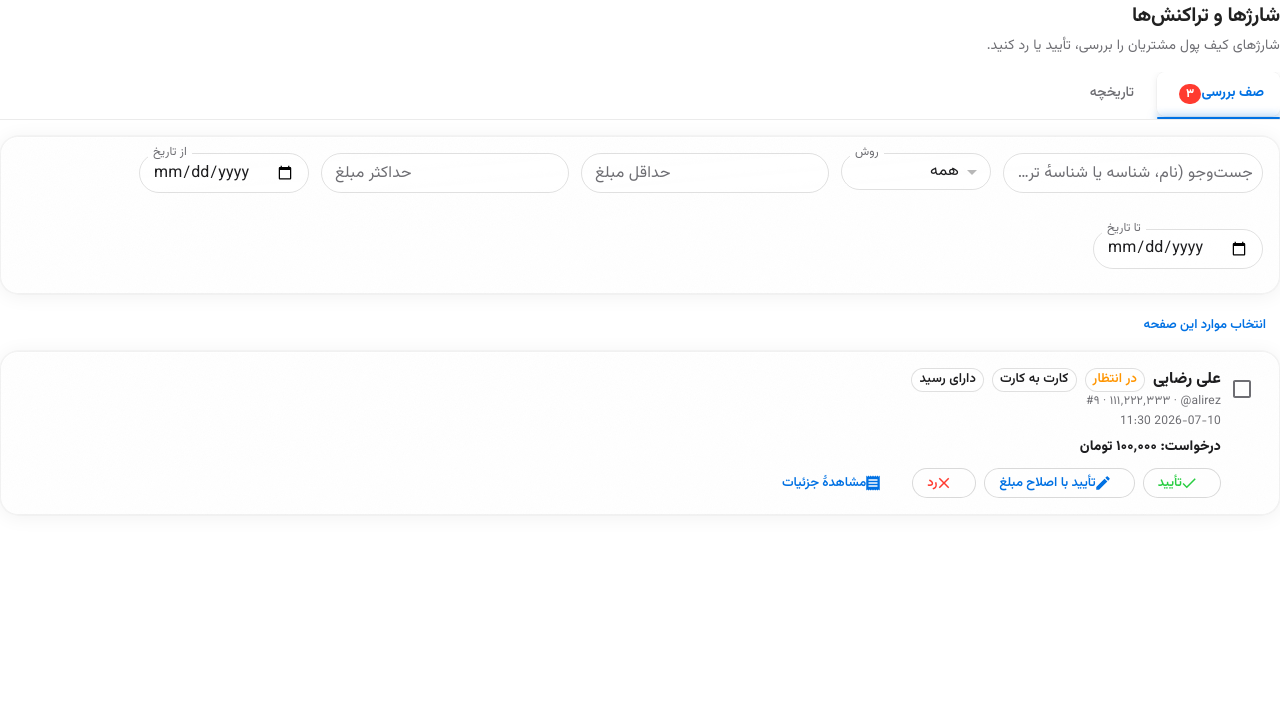
Test: storefront top-ups operations center › issues a single confirm for a double-click, reusing one Idempotency-Key
This screenshot has width=1280, height=720.
Click the button "تأیید" at (1182, 483), box [1143, 468, 1221, 498]
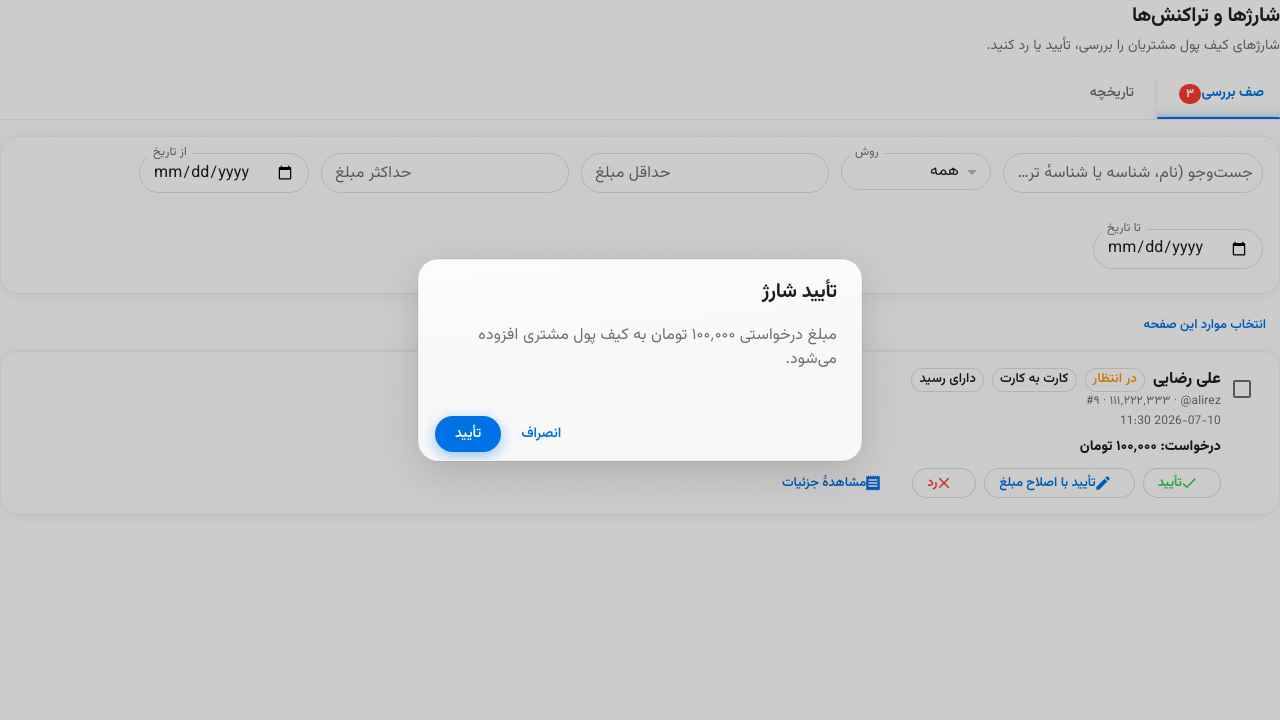
Double-click the button "تأیید" at (468, 434), box [435, 416, 501, 452]
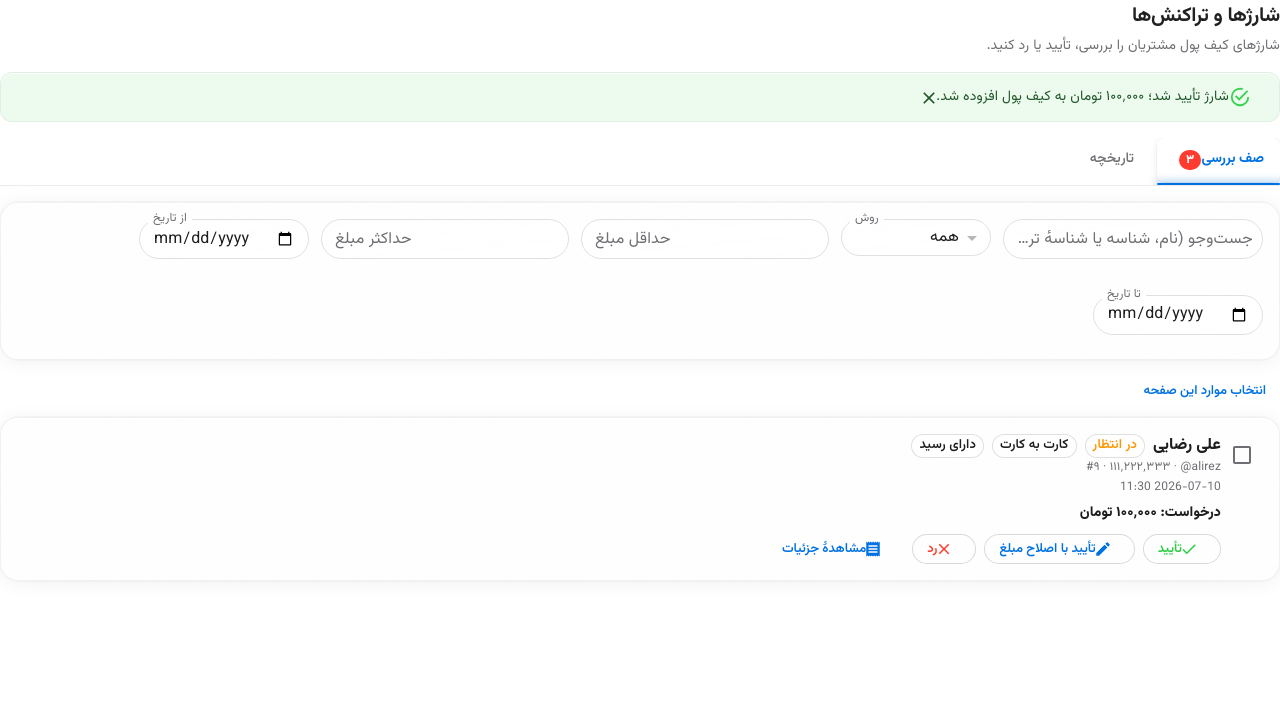
Check: the text "شارژ تأیید شد؛ ۱۰۰٬۰۰۰ تومان به کیف پول افزوده شد." is shown, box [936, 79, 1229, 115]
